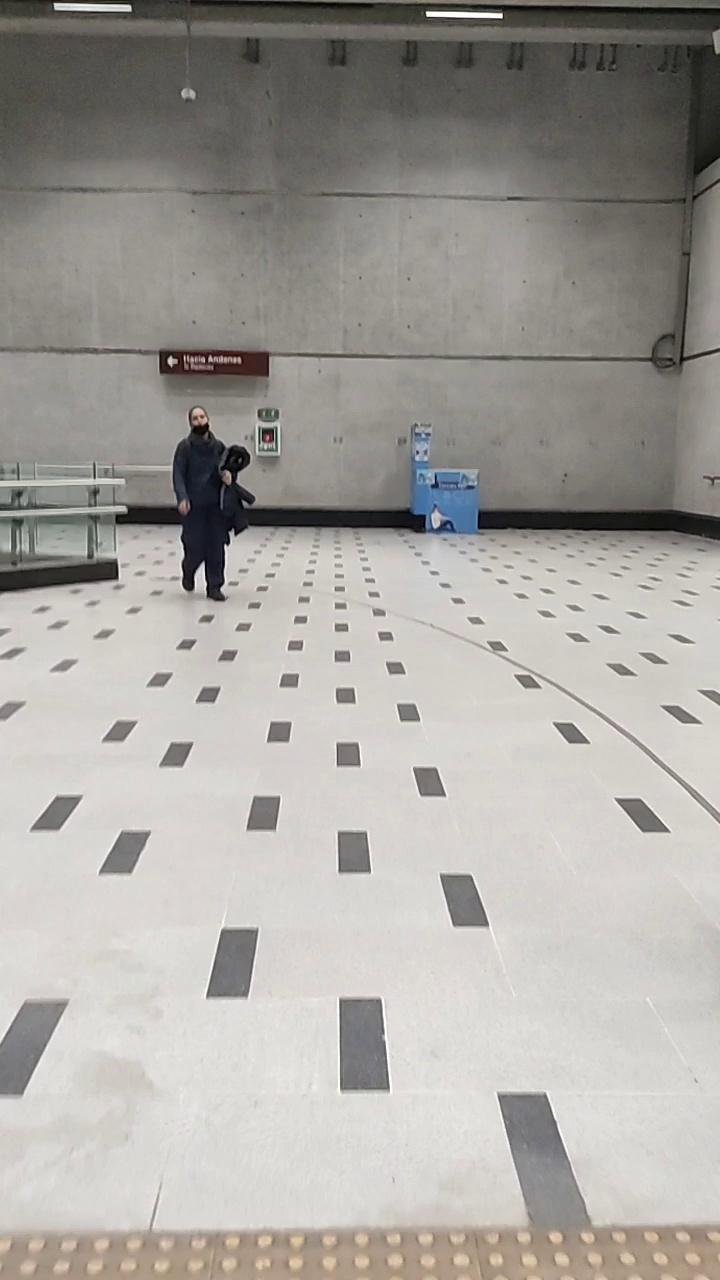left arrow: (165, 352, 182, 368)
